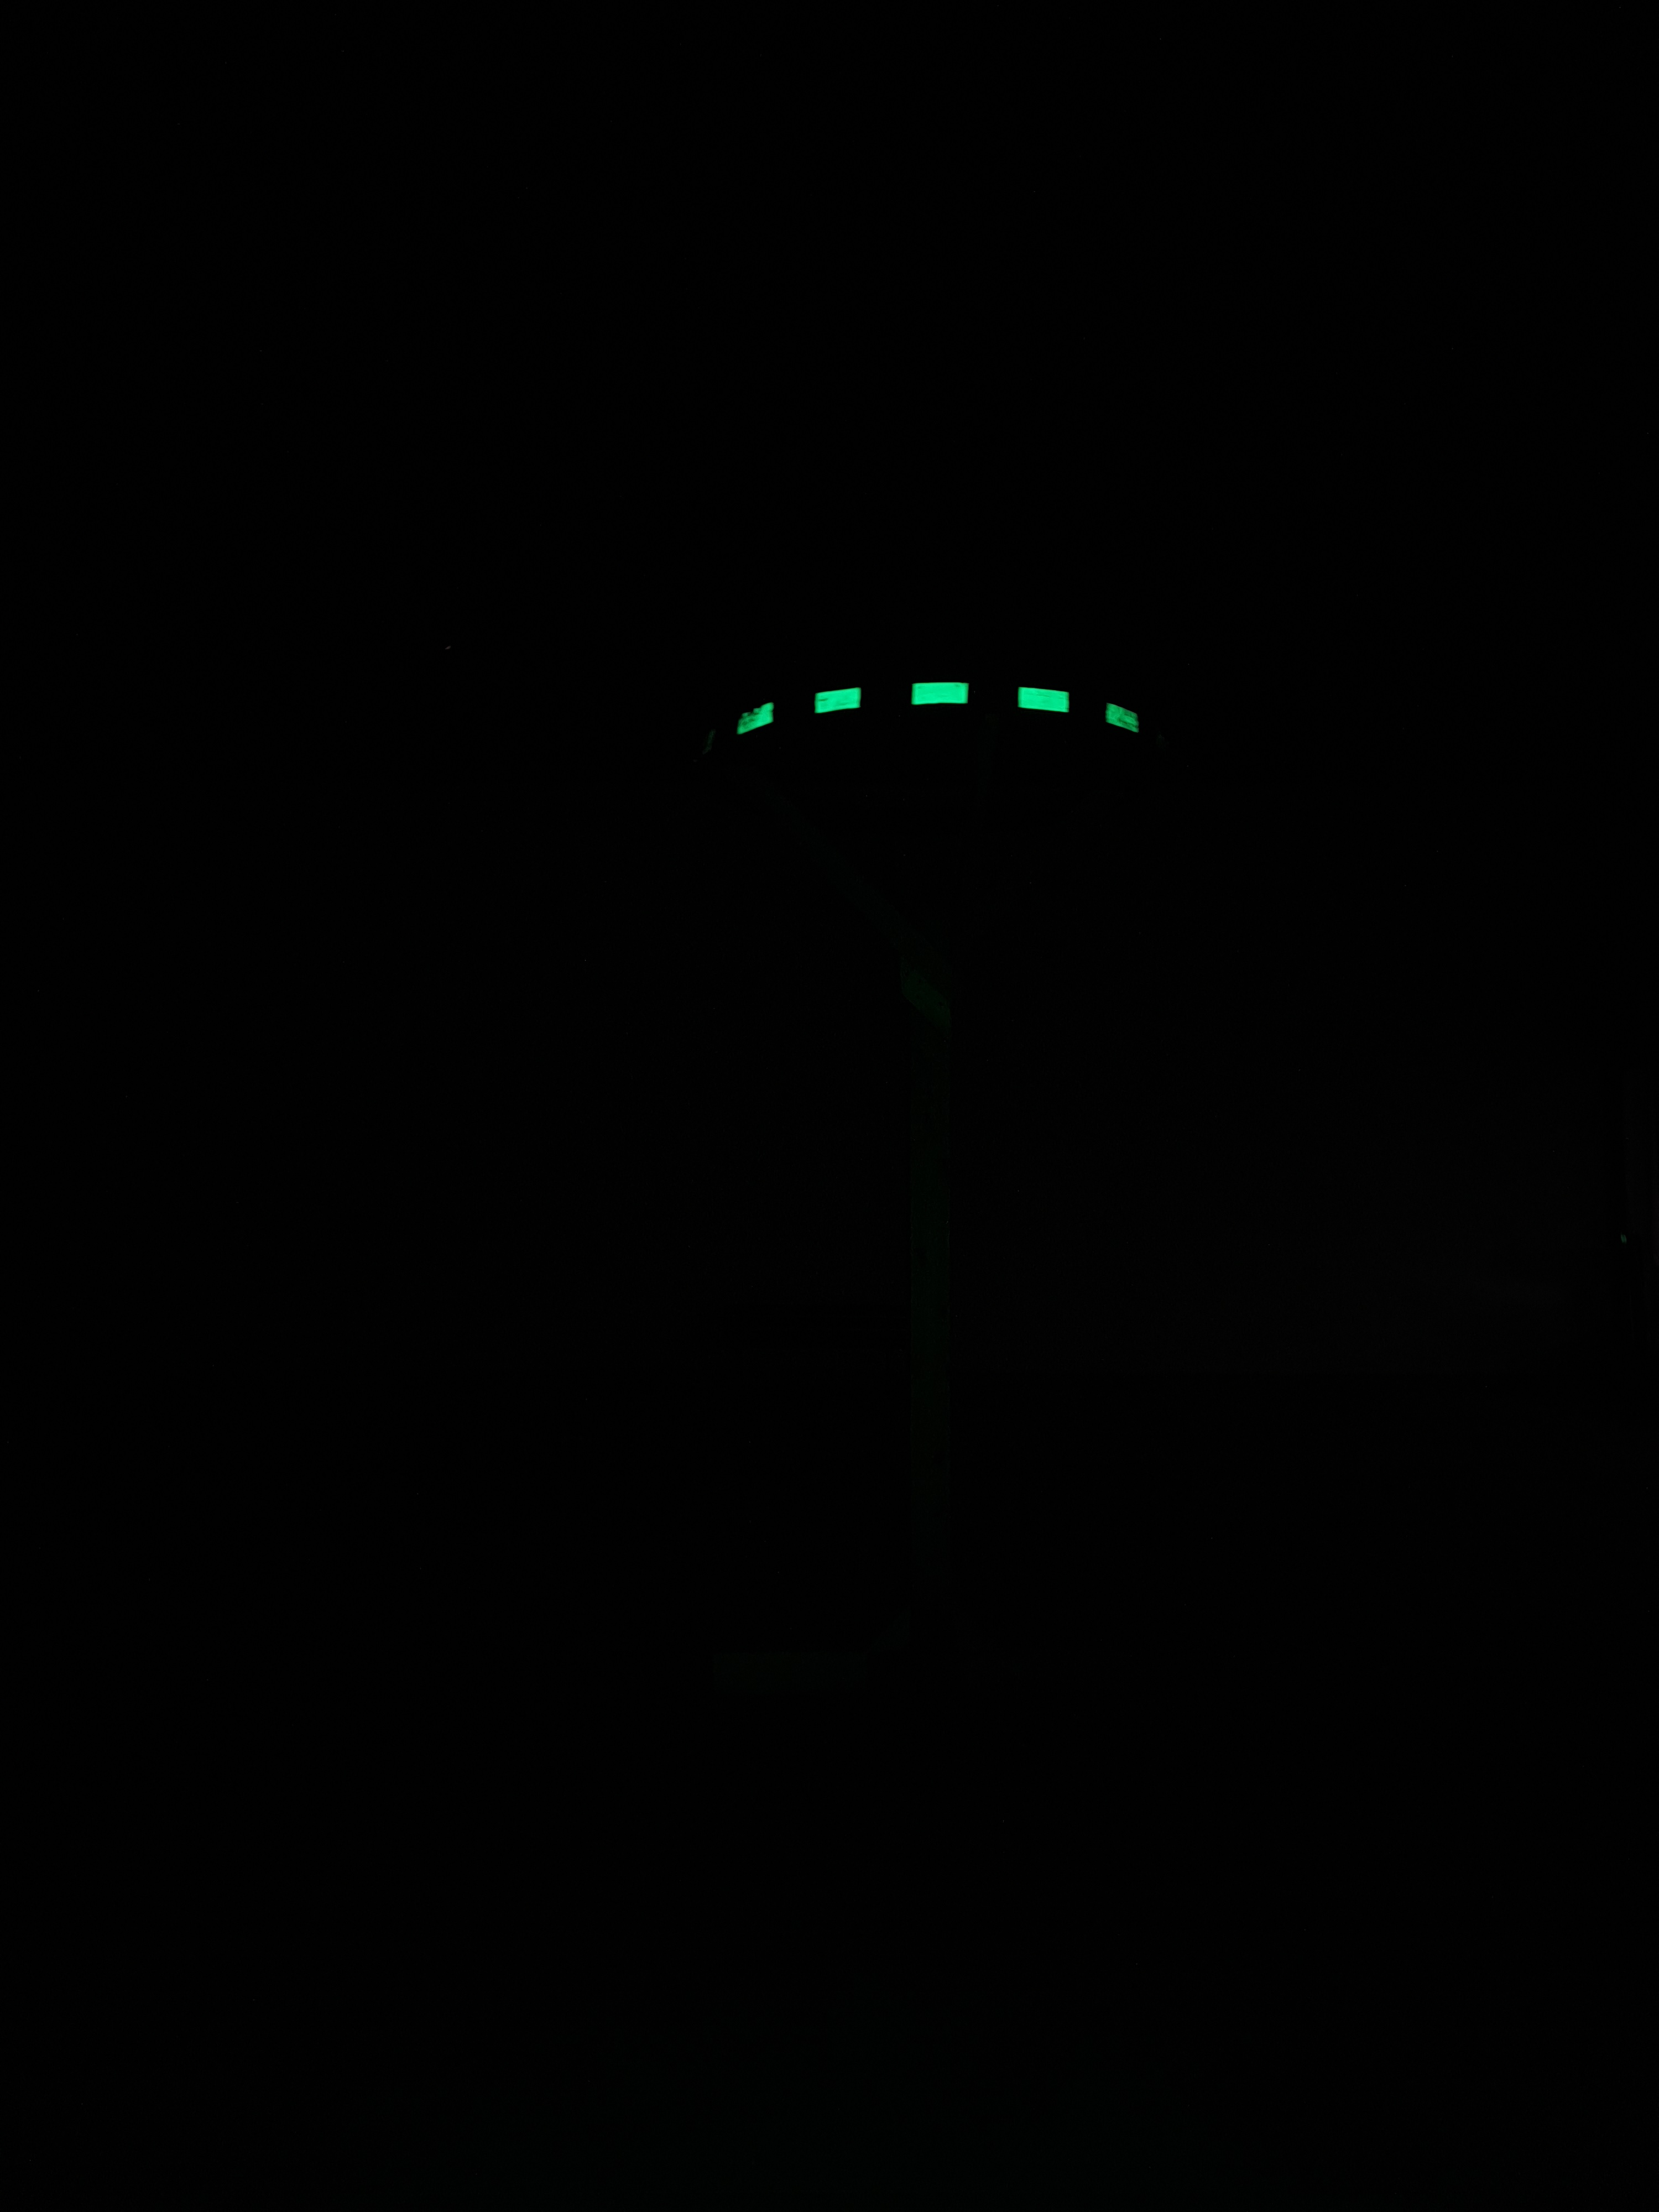hoop: (728, 681, 1147, 745)
